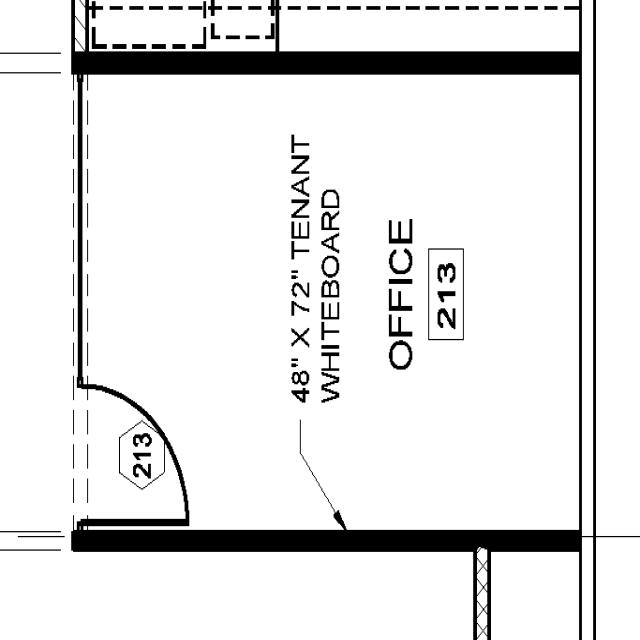Doors: (74, 381, 194, 529)
